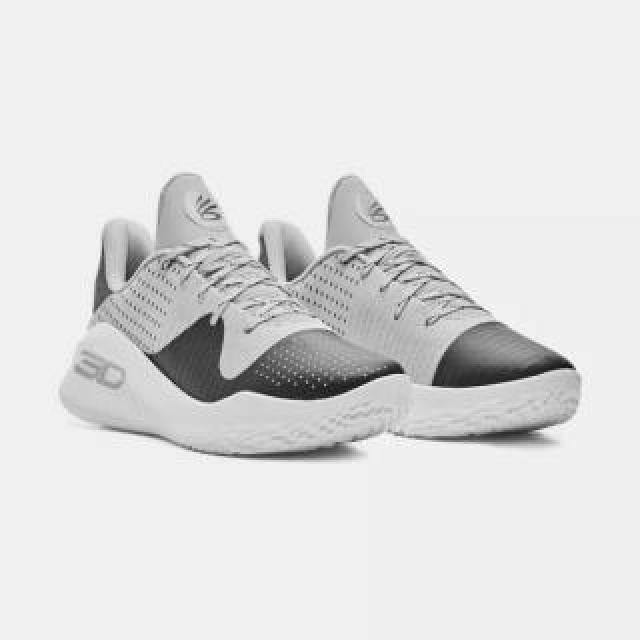shoe: (60, 170, 408, 458), (225, 174, 581, 438)
